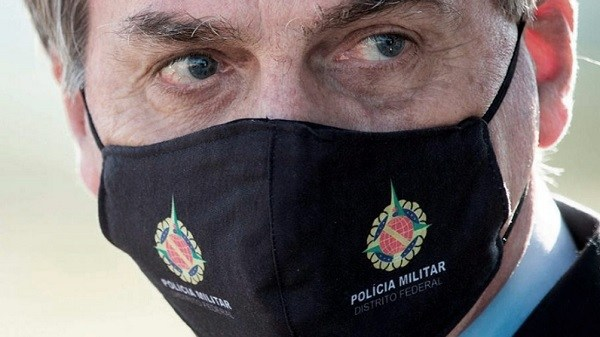barbijo: (68, 69, 555, 337)
